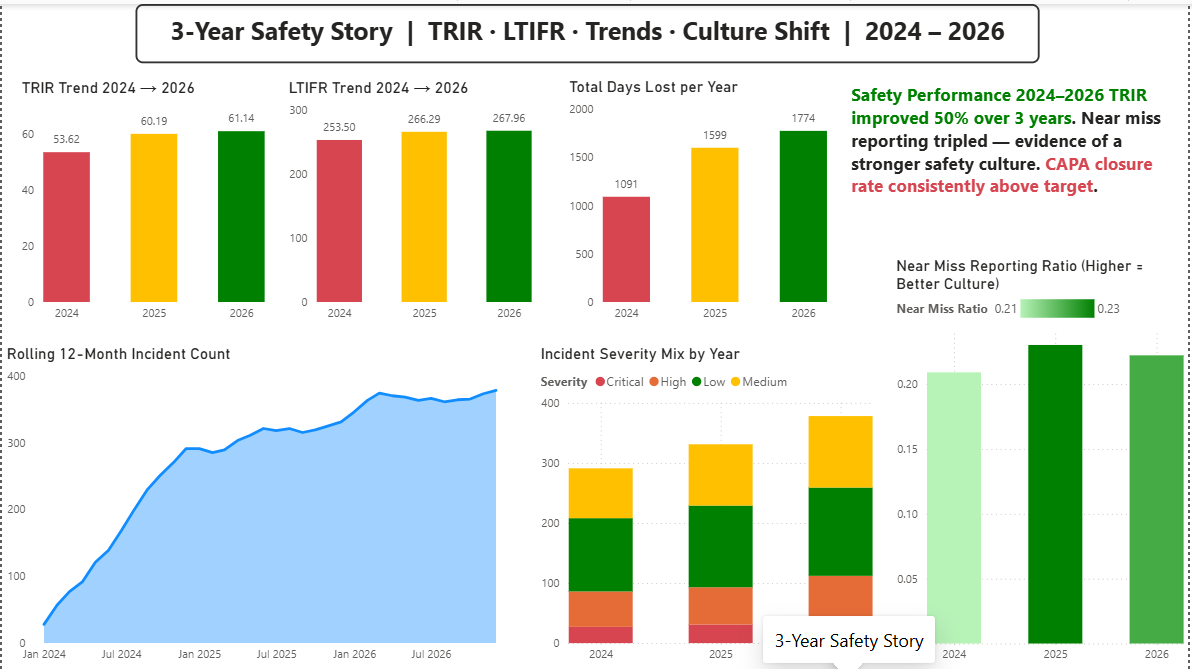

The page's visual inventory and layout, read from the dashboard file:
{"tool":"powerbi","page":{"name":"3-Year Safety Story","canvas":[1280,720],"ordinal":4},"visuals":[{"type":"clusteredColumnChart","title":"TRIR Trend 2024 → 2026","fields":{"Y":["OHS_Measures.TRIR"],"Category":["OHS_Date_Table.Year"]},"box":[16,80,272,272],"z":0},{"type":"clusteredColumnChart","title":"LTIFR Trend 2024 → 2026","fields":{"Y":["OHS_Measures.LTIFR"],"Category":["OHS_Date_Table.Year"]},"box":[304,80,272,272],"z":1000},{"type":"clusteredColumnChart","title":"Total Days Lost per Year","fields":{"Y":["OHS_Measures.Total Days Lost"],"Category":["OHS_Date_Table.Year"]},"box":[608,80,288,272],"z":2000},{"type":"areaChart","title":"Rolling 12-Month Incident Count","fields":{"Y":["OHS_Measures.Rolling 12M Incidents"],"Category":["OHS_Date_Table.Date.Variation.Date Hierarchy.Year","OHS_Date_Table.Date.Variation.Date Hierarchy.Quarter","OHS_Date_Table.Date.Variation.Date Hierarchy.Month","OHS_Date_Table.Date.Variation.Date Hierarchy.Day"]},"box":[0,368,560,352],"z":3000},{"type":"columnChart","title":"Incident Severity Mix by Year","fields":{"Category":["OHS_Date_Table.Year"],"Y":["OHS_Measures.Total Incidents"],"Series":["OHS_Incidents_2024_2026.Severity"]},"box":[576,368,368,352],"z":4000},{"type":"columnChart","title":"Near Miss Reporting Ratio (Higher = Better Culture)","fields":{"Category":["OHS_Date_Table.Year"],"Y":["OHS_Measures.Near Miss Ratio"]},"box":[960,272,320,448],"z":5000},{"type":"textbox","box":[144,0,976,64],"z":6000},{"type":"textbox","box":[912,80,368,144],"z":7000}]}

Visuals, with their boxes in screenshot pixels (x1, y1, x2, y2), scaled from the page's 1280x720 canvas onto the 1192x669 screenshot:
"TRIR Trend 2024 → 2026" clusteredColumnChart: x1=15, y1=74, x2=268, y2=327
"LTIFR Trend 2024 → 2026" clusteredColumnChart: x1=283, y1=74, x2=536, y2=327
"Total Days Lost per Year" clusteredColumnChart: x1=566, y1=74, x2=834, y2=327
"Rolling 12-Month Incident Count" areaChart: x1=0, y1=342, x2=522, y2=668
"Incident Severity Mix by Year" columnChart: x1=536, y1=342, x2=879, y2=668
"Near Miss Reporting Ratio (Higher = Better Culture)" columnChart: x1=894, y1=253, x2=1191, y2=668
textbox: x1=134, y1=0, x2=1043, y2=59
textbox: x1=849, y1=74, x2=1191, y2=208
